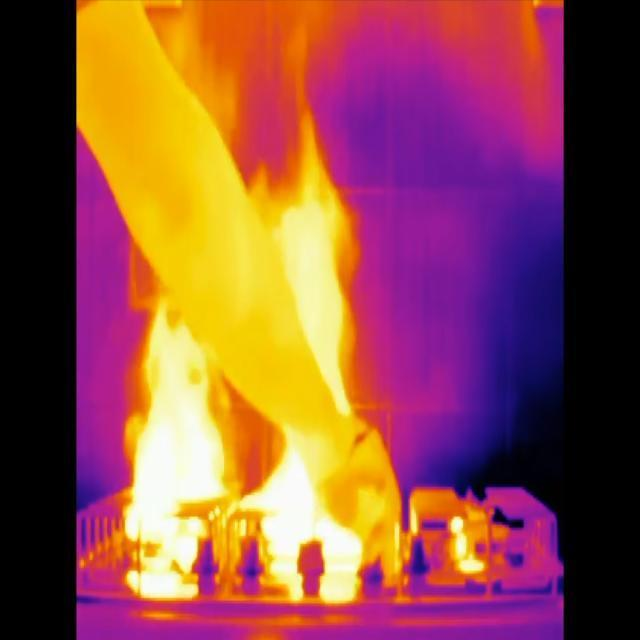fire: (119, 444, 232, 603), (233, 482, 368, 607), (447, 506, 486, 582)
